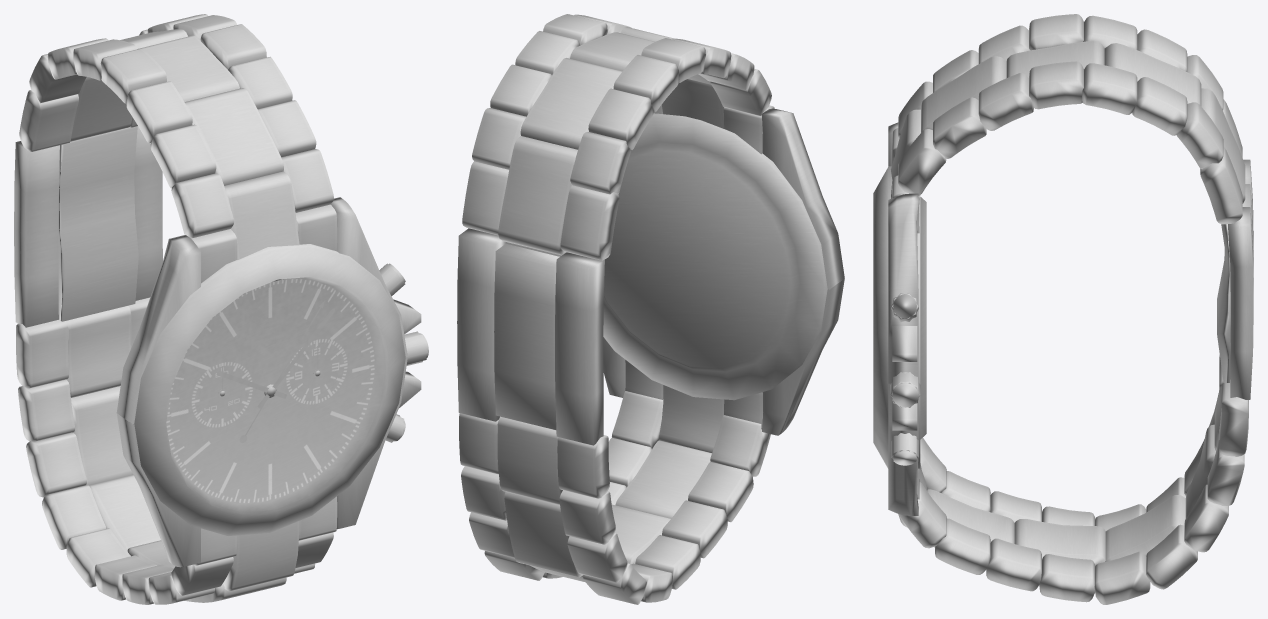
3 views of the same model, side by side, from view 1: azimuth 30°, elevation 25°; view 2: azimuth 150°, elevation 25°; view 3: azimuth 270°, elevation 25° (orthographic). The views are drawn at different scales.
Visible parts, largest first — view 1: polySurface2, pPlane10, pCube52, polySurface8, pCube118, pCube1, pCube117, pCube111, pCube83, polySurface9, pCube115, pCube145 (+35 smaller); view 2: polySurface2, pPlane10, pCube116, pCube112, polySurface8, pCube118, pCube113, pCube117, pCube154, polySurface9, pCube83, pCube153 (+33 smaller); view 3: polySurface2, pPlane10, polySurface3, pCube114, pCube115, pCube52, pCube112, pCube123, pCube130, pCube122, pCube131, pCube129 (+34 smaller).
Boxes of the visible parts, x1,y1,x2,y2 form: polySurface2: (125,244,405,535); pPlane10: (14,126,162,327); pCube52: (184,88,283,185); polySurface8: (116,235,200,424); pCube118: (66,305,130,397); pCube1: (224,171,299,281); pCube117: (71,386,133,485); pCube111: (137,35,239,101); pCube83: (223,521,299,591); polySurface9: (116,413,200,567); pCube115: (89,474,160,551); pCube145: (16,319,68,388); polySurface2: (603,113,827,400); pPlane10: (457,228,604,445); pCube116: (498,136,577,255); pCube112: (520,58,622,149); polySurface8: (761,108,844,289); pCube118: (497,416,562,504); pCube113: (615,440,711,518); pCube117: (504,492,582,577); pCube154: (560,185,619,260); polySurface9: (762,278,844,435); pCube83: (659,385,724,452); pCube153: (570,132,631,194); polySurface2: (873,166,926,469); pPlane10: (1217,159,1253,399); polySurface3: (888,193,918,383); pCube114: (1014,519,1105,566); pCube115: (1105,495,1185,561); pCube52: (921,56,1006,132); pCube112: (1104,43,1201,105); pCube123: (1082,63,1137,114); pCube130: (1039,554,1095,602); pCube122: (1029,61,1083,109); pCube131: (1094,551,1150,604); pCube129: (986,538,1041,591).
Size of the model in its own units: 4.79 by 8.27 by 5.43.
Materials: 2 (2 with a texture image).
